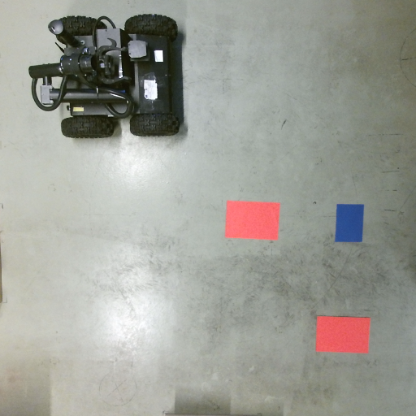Blue: (333, 202, 366, 245)
Jaguar: (25, 14, 183, 141)
Red: (223, 199, 281, 241), (313, 316, 371, 355)
